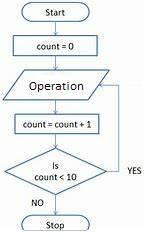arrow: (96, 82, 121, 173), (52, 194, 59, 217), (51, 99, 59, 117), (51, 133, 59, 150), (51, 22, 60, 36), (52, 54, 59, 71)
data: (1, 68, 111, 102)
decision: (4, 146, 107, 196)
process: (11, 34, 99, 58), (12, 112, 101, 134)
terminator: (20, 1, 90, 23), (20, 214, 91, 231)
text: (34, 161, 77, 181), (27, 80, 85, 93), (22, 120, 91, 128), (34, 42, 75, 51), (38, 7, 71, 16), (44, 220, 66, 231), (126, 165, 143, 176), (30, 197, 44, 207)
